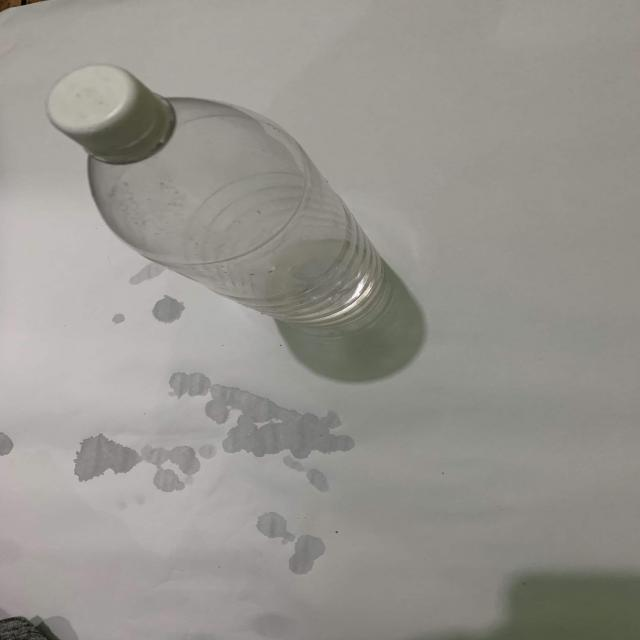bottle: (18, 56, 435, 351)
